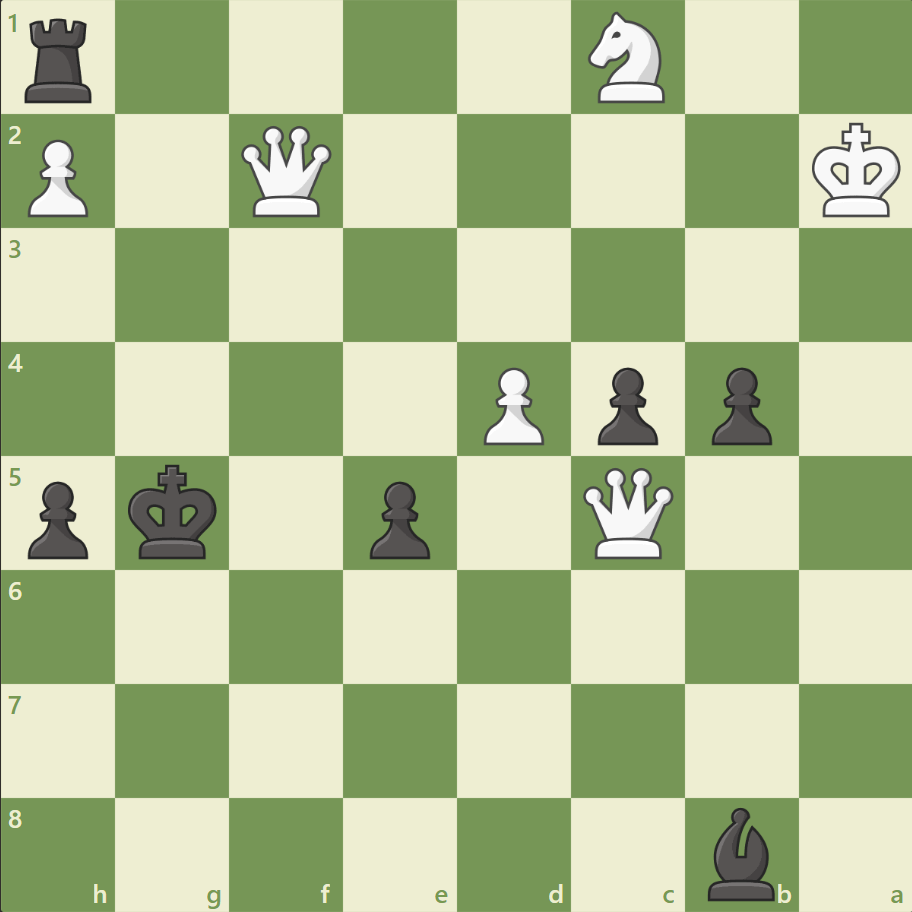K: (806, 117, 906, 225)
N: (579, 7, 676, 110)
P: (474, 359, 549, 450), (20, 132, 95, 223)
Q: (237, 122, 336, 222), (578, 463, 677, 562)
b: (698, 801, 782, 904)
k: (124, 458, 224, 566)
p: (20, 473, 95, 564), (701, 359, 776, 450), (361, 473, 435, 564), (588, 359, 662, 450)
r: (19, 12, 102, 109)
